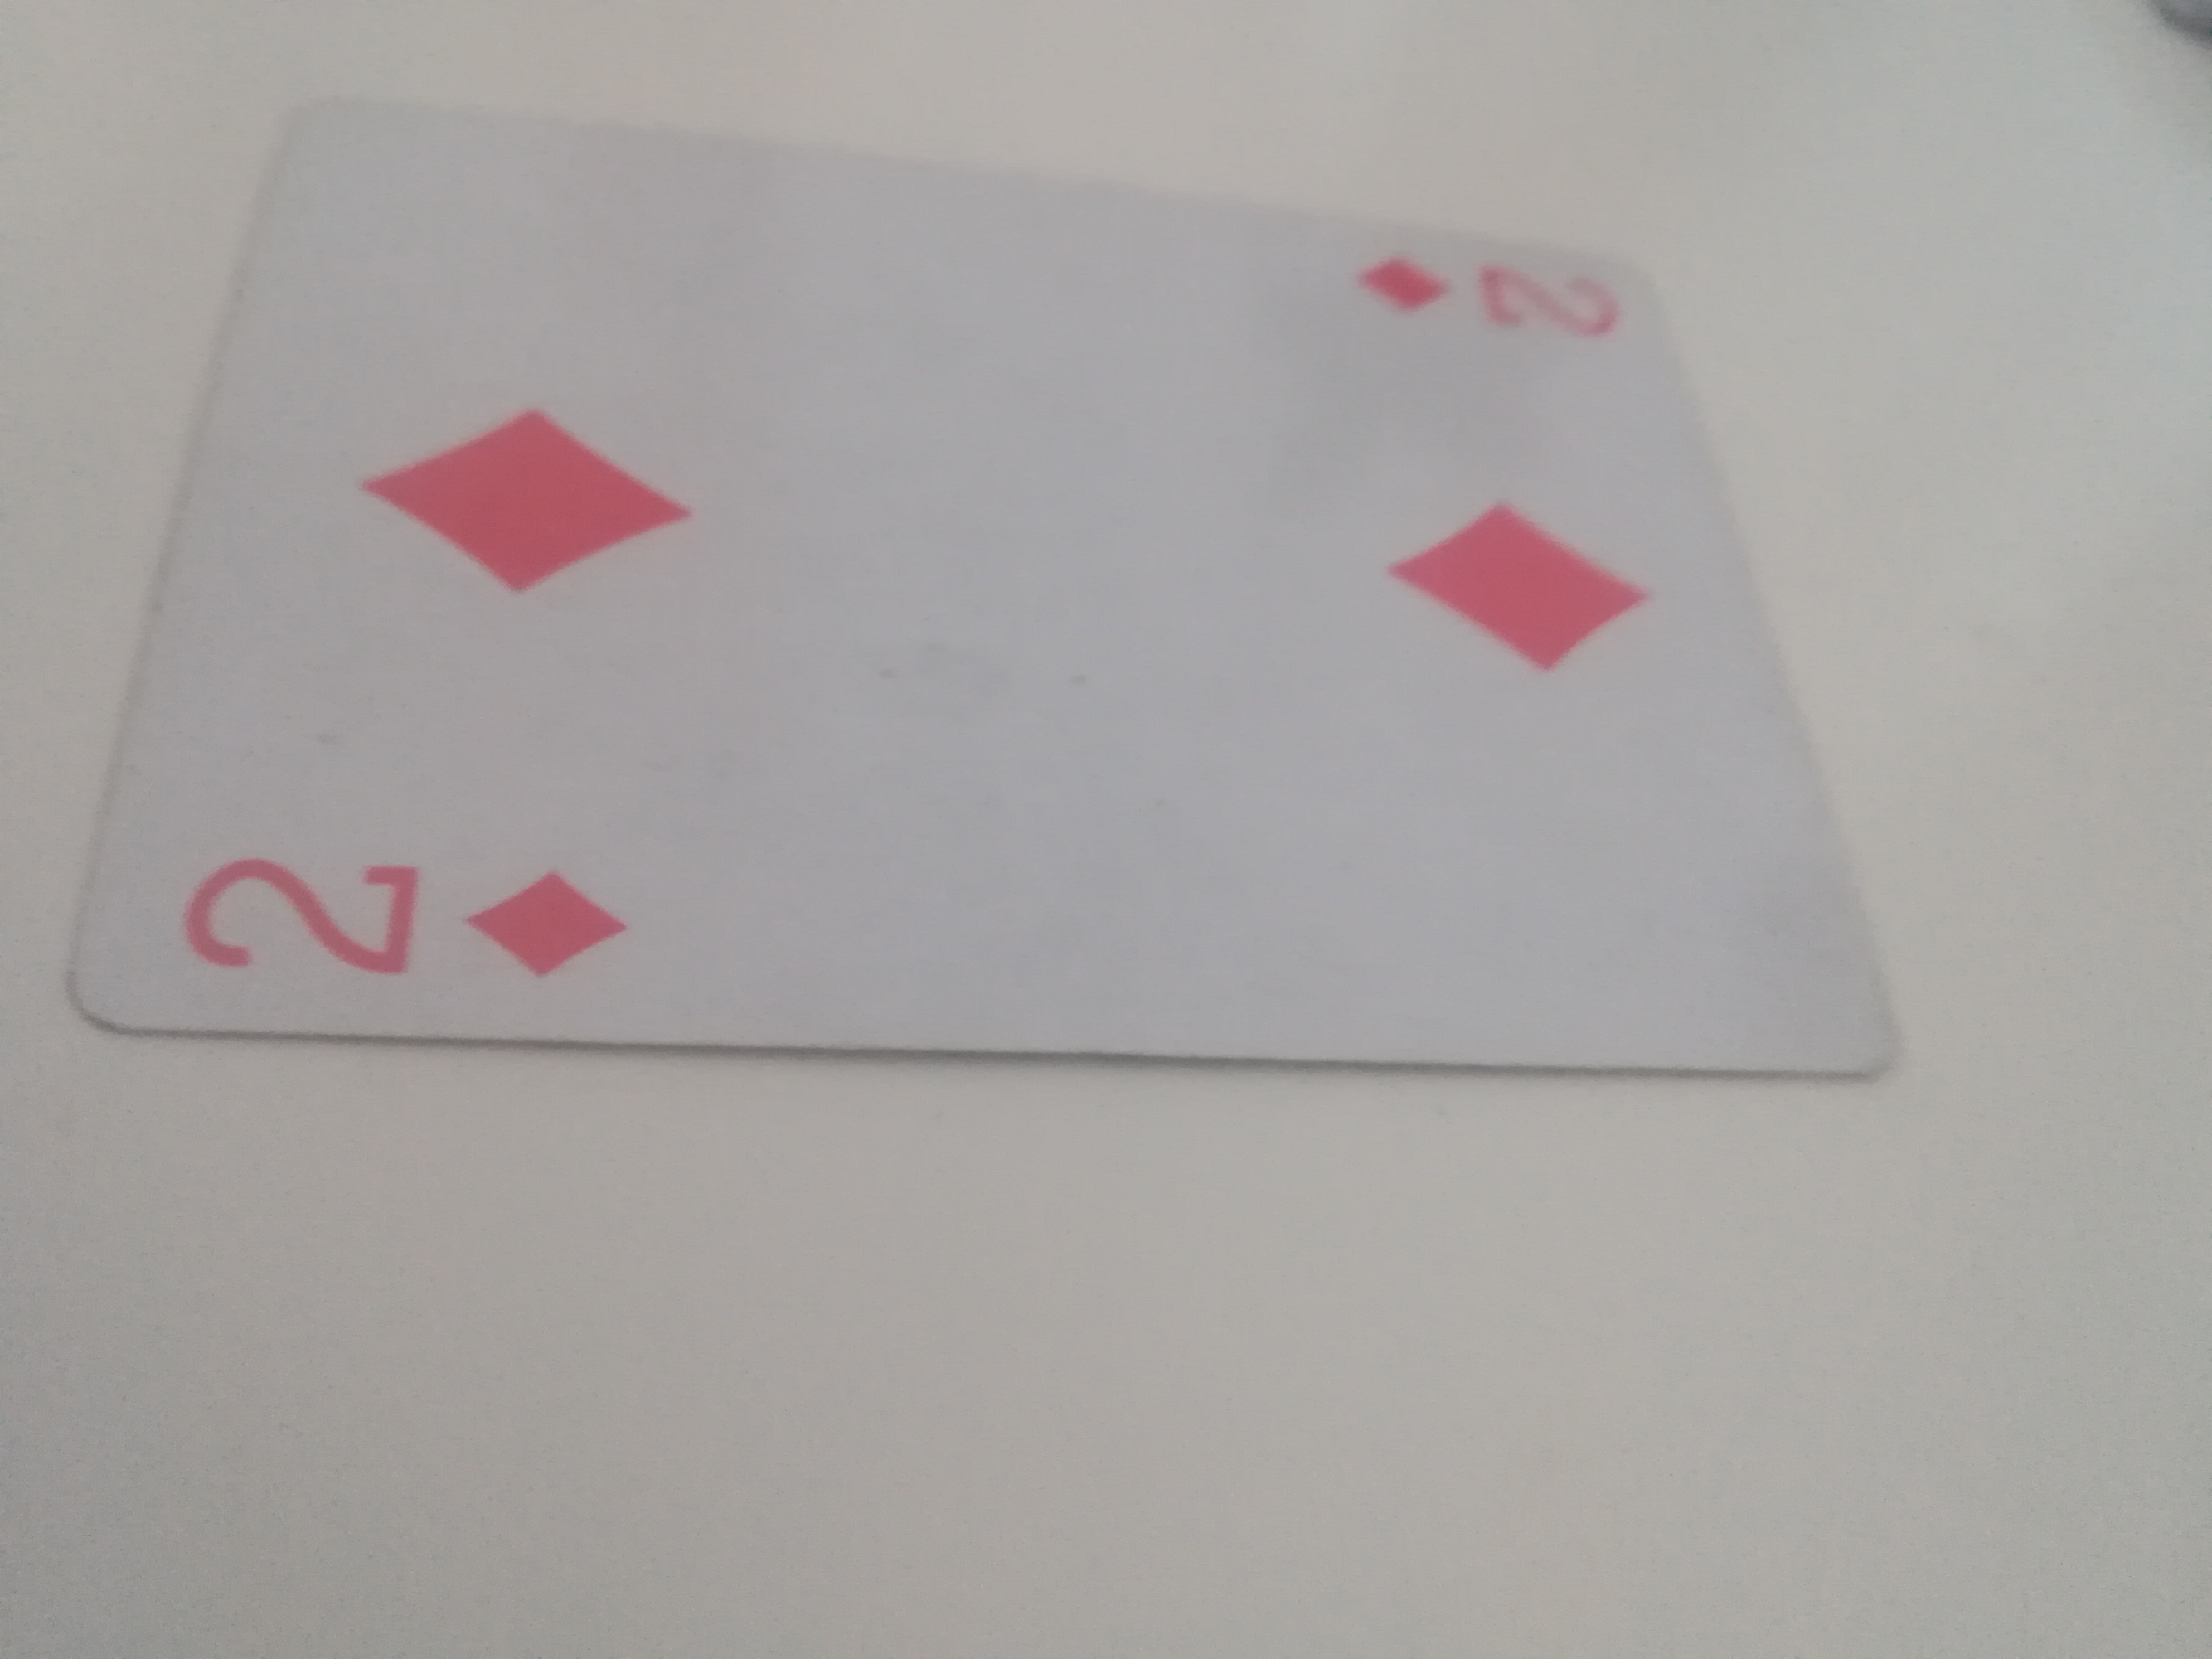2D: (73, 68, 1926, 1108)
